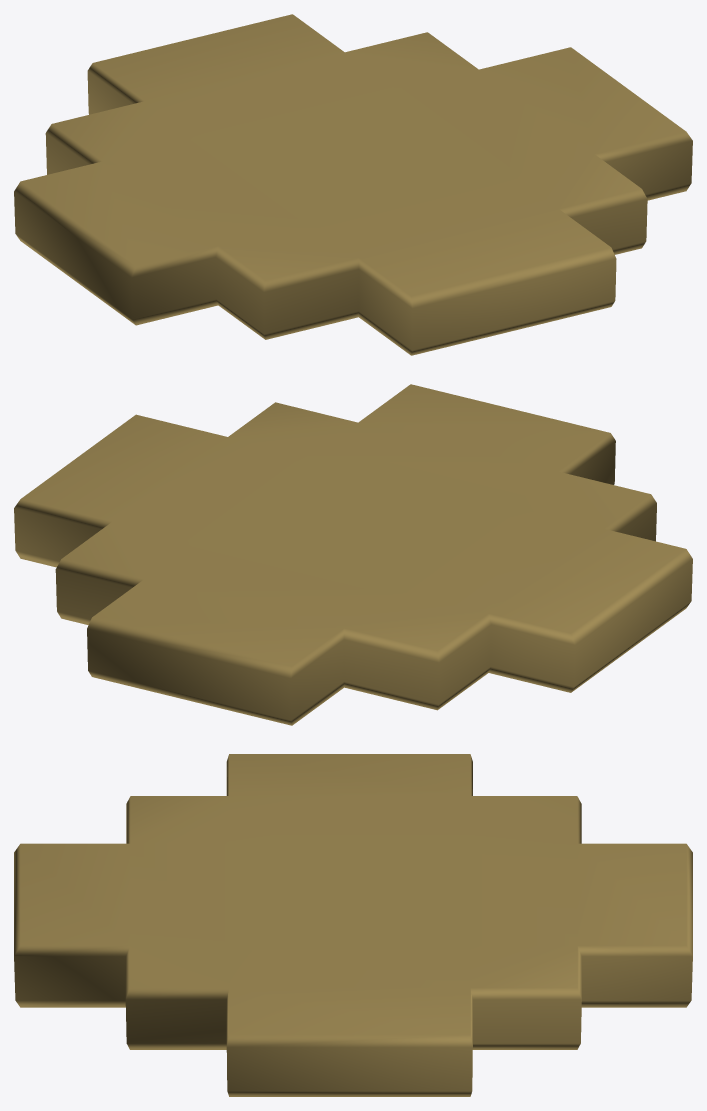
File: Pillar_06D.fbx
The picture shows the model from 3 angles, top to bottom: view 1: azimuth 30°, elevation 25°; view 2: azimuth 150°, elevation 25°; view 3: azimuth 270°, elevation 25°; orthographic projection. The views are drawn at different scales.
Visible parts, largest first — view 1: Pillar_06D; view 2: Pillar_06D; view 3: Pillar_06D.
Boxes of the visible parts, box(x1,y1,x2,y2) form: Pillar_06D: box(14, 14, 692, 355); Pillar_06D: box(14, 384, 692, 725); Pillar_06D: box(14, 754, 692, 1096).
Size of the model in its own units: 156 by 15.81 by 156.
